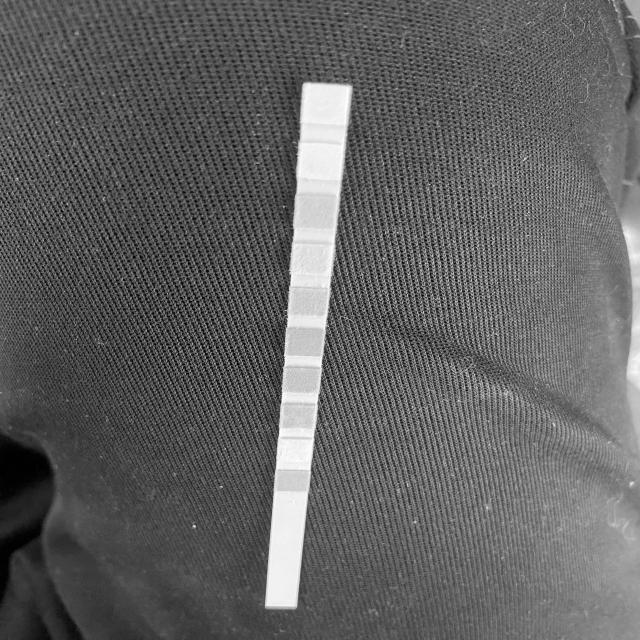Bilirubin: (278, 440, 312, 460)
Blood: (286, 330, 322, 355)
Glucose: (277, 472, 309, 491)
Ketone: (282, 406, 316, 426)
Leukocytes: (304, 85, 348, 122)
Nitrite: (300, 145, 342, 178)
Protein: (293, 246, 331, 272)
SpGravity: (284, 369, 319, 392)
Urobilinogen: (297, 198, 336, 227)
background: (0, 0, 640, 640)
pH: (290, 289, 327, 315)
strip: (265, 82, 353, 609)
